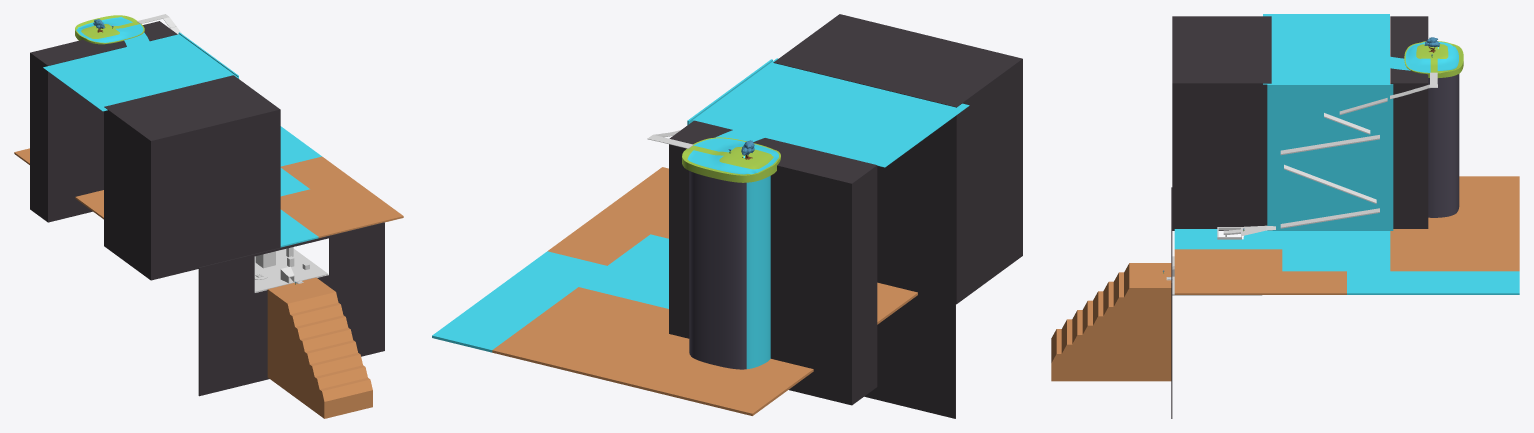
Rendered from BETAWorld.fbx.
3 views of the same model, side by side, from view 1: azimuth 30°, elevation 25°; view 2: azimuth 150°, elevation 25°; view 3: azimuth 270°, elevation 25° (orthographic). The views are drawn at different scales.
Parts seen in each view (by area): view 1: waterfall.001, Cliffface, waterfall.002, BIG BKG.003, BIG BKG.001, BIG BKG.002, Final area, Cube.039, BIG BKG.004; view 2: waterfall.001, BIG BKG.001, waterfall.002, Final area, BIG BKG.002, Cliffface, BIG BKG.004; view 3: BIG BKG.001, waterfall.001, waterfall, BIG BKG.003, BIG BKG.002, waterfall.002, Final area, BIG BKG.004, Plane.005, Plane.006, Plane.007, Cliffface.
Part boxes in pixels (x1,y1,x2,y2): waterfall.001: [104, 75, 280, 280]; Cliffface: [198, 222, 384, 396]; waterfall.002: [30, 21, 177, 222]; BIG BKG.003: [267, 277, 372, 418]; BIG BKG.001: [14, 126, 403, 247]; BIG BKG.002: [43, 34, 238, 111]; Final area: [75, 15, 144, 44]; Cube.039: [254, 249, 328, 292]; BIG BKG.004: [118, 32, 152, 71]; waterfall.001: [773, 14, 1022, 304]; BIG BKG.001: [432, 167, 917, 415]; waterfall.002: [669, 120, 877, 405]; Final area: [682, 137, 780, 369]; BIG BKG.002: [692, 58, 969, 167]; Cliffface: [864, 295, 955, 418]; BIG BKG.004: [715, 112, 844, 141]; BIG BKG.001: [1174, 176, 1519, 294]; waterfall.001: [1172, 16, 1271, 230]; waterfall: [1267, 84, 1393, 230]; BIG BKG.003: [1051, 263, 1171, 381]; BIG BKG.002: [1263, 14, 1389, 84]; waterfall.002: [1390, 16, 1428, 228]; Final area: [1404, 41, 1463, 217]; BIG BKG.004: [1332, 40, 1410, 70]; Plane.005: [1280, 208, 1379, 228]; Plane.006: [1280, 135, 1379, 155]; Plane.007: [1284, 164, 1376, 203]; Cliffface: [1171, 187, 1172, 418].
Size of the model in its own units: 27109 by 18340 by 18992.
